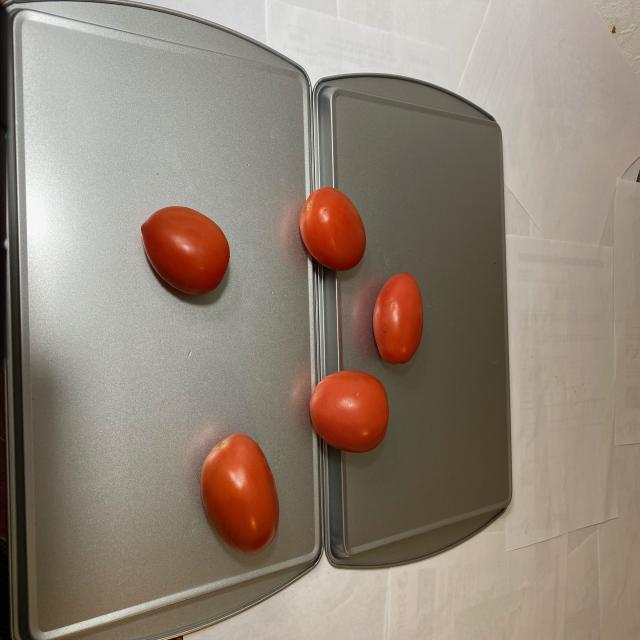tomato: (300, 184, 424, 456), (199, 435, 282, 558), (136, 210, 236, 295)
